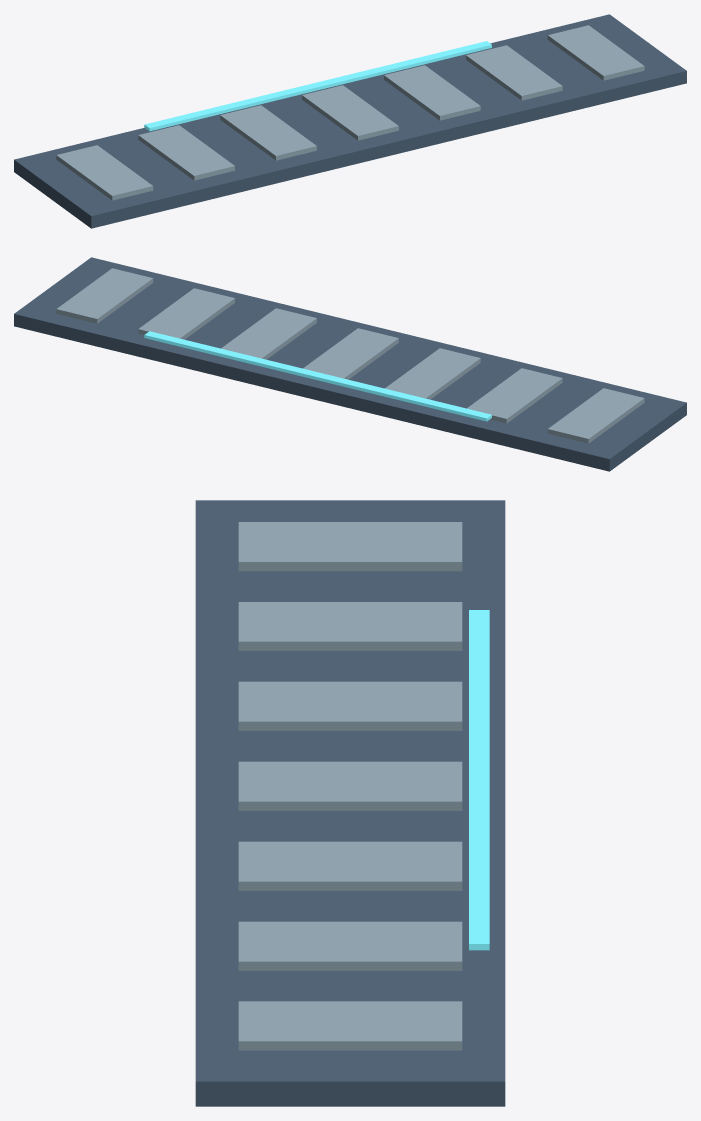
Rendered from elevator_threshold.glb.
3 views of the same model, one above another, from view 1: azimuth 30°, elevation 25°; view 2: azimuth 150°, elevation 25°; view 3: azimuth 270°, elevation 25° (orthographic). The views are drawn at different scales.
Visible parts, largest first — view 1: elevator_threshold; view 2: elevator_threshold; view 3: elevator_threshold.
Boxes of the visible parts, x1,y1,x2,y2 form: elevator_threshold: (14, 14, 686, 228); elevator_threshold: (14, 257, 686, 471); elevator_threshold: (195, 500, 505, 1106).
Size of the model in its own units: 1.6 by 0.05 by 0.36.
